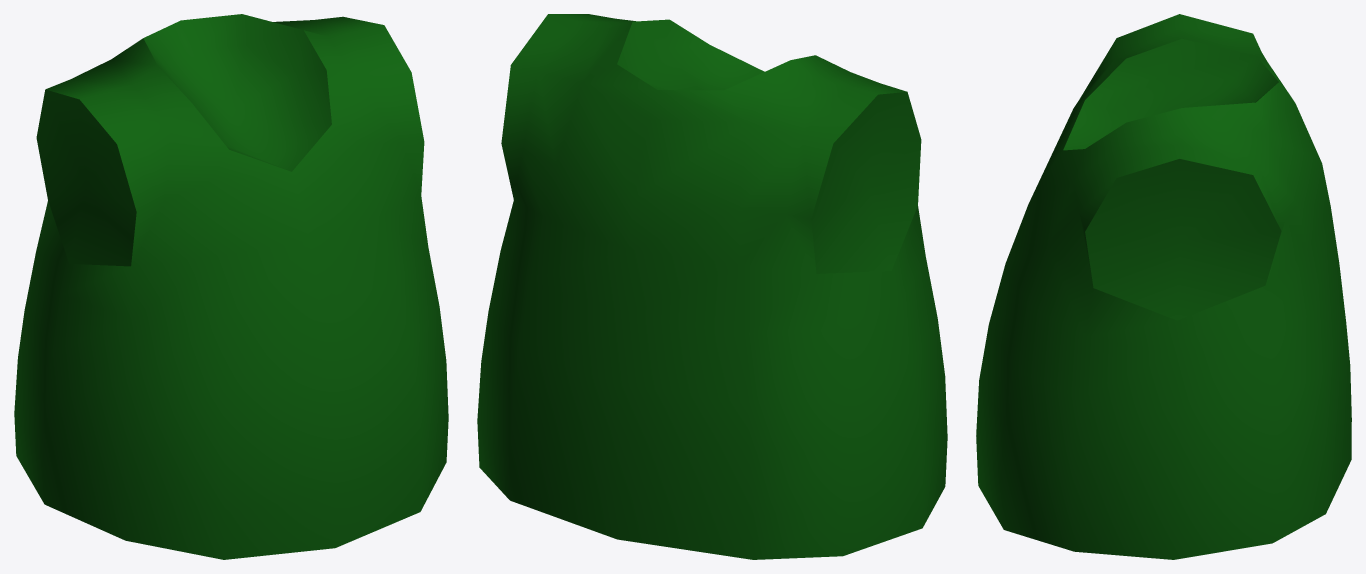
Rendered from Top_64.fbx.
3 views of the same model, side by side, from view 1: azimuth 30°, elevation 25°; view 2: azimuth 150°, elevation 25°; view 3: azimuth 270°, elevation 25° (orthographic). The views are drawn at different scales.
Visible parts, largest first — view 1: Top_64; view 2: Top_64; view 3: Top_64.
Part boxes in pixels (x1,y1,x2,y2): Top_64: [14, 14, 448, 559]; Top_64: [477, 14, 947, 559]; Top_64: [976, 14, 1351, 559].
Bounding box in the file's own units: 41 × 43.35 × 35.79.
